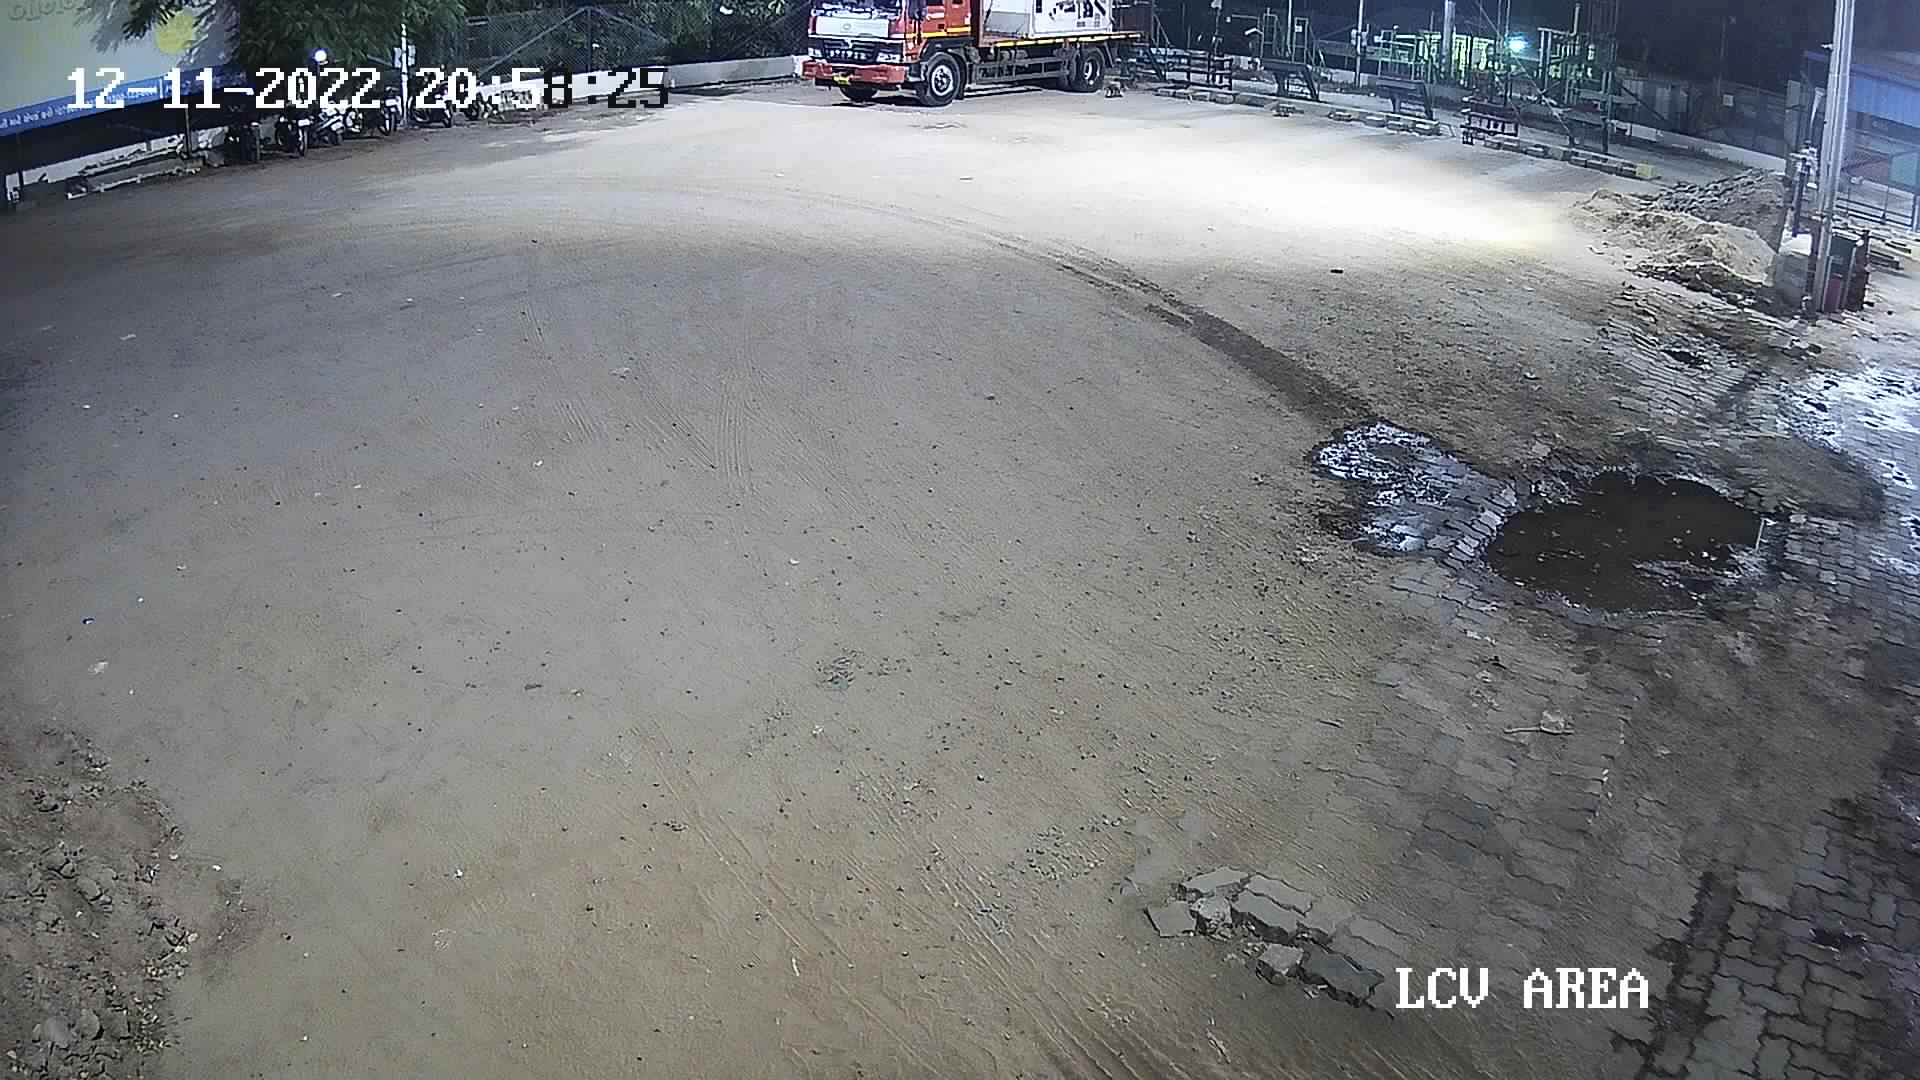HMV: (791, 0, 1168, 109)
